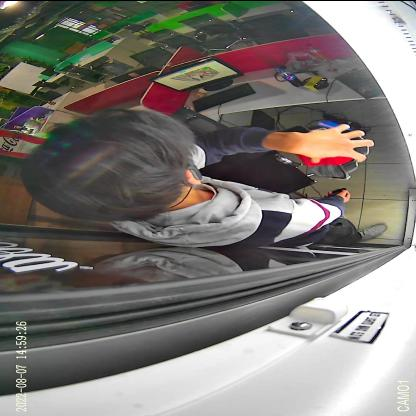blue: (305, 120, 371, 156)
red: (276, 124, 359, 180)
